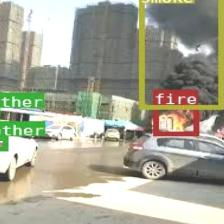fire: (153, 105, 197, 135)
smoke: (138, 0, 222, 108)
